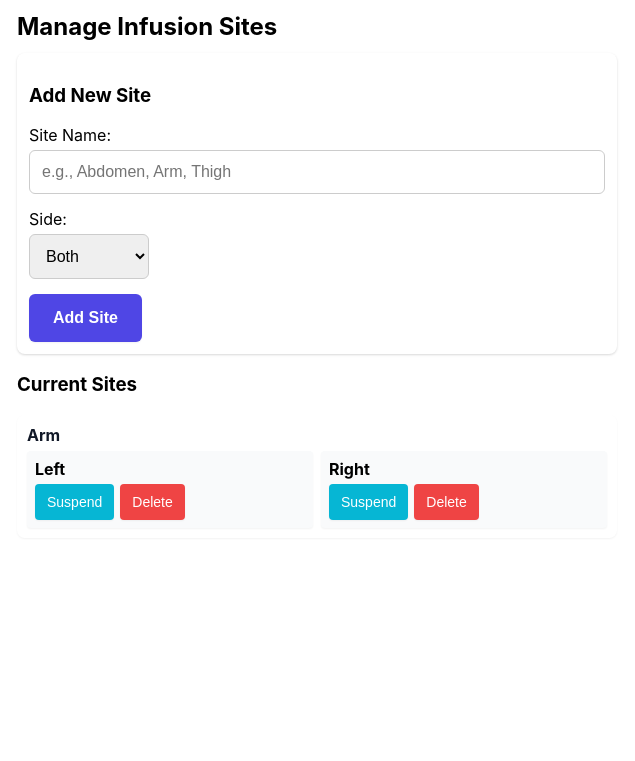
Scenario: LocationManager - suspension UI › suspending one side does not affect the other side
The width and height of the screenshot is (635, 761).
Click the button "Suspend" below "left": click(75, 502) 35,484 -> 114,520
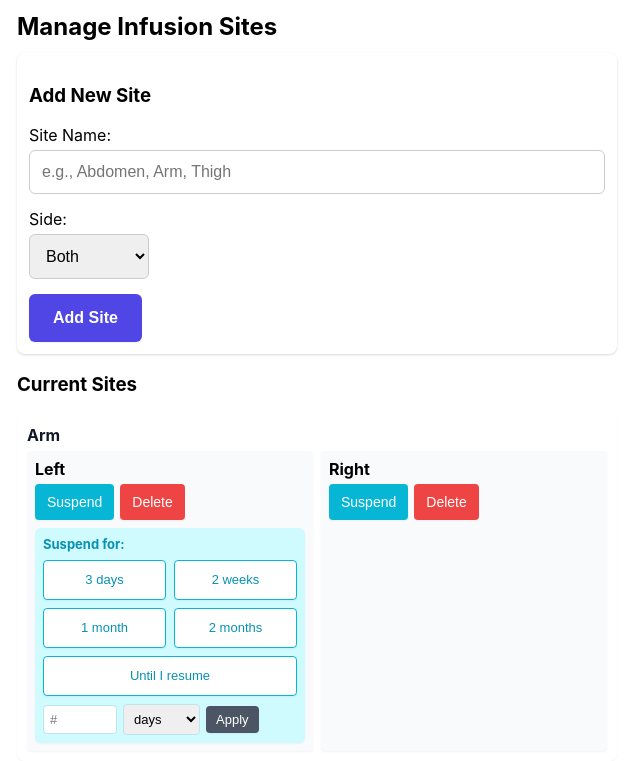
Click the button "Until I resume": click(170, 676) 43,656 -> 297,696
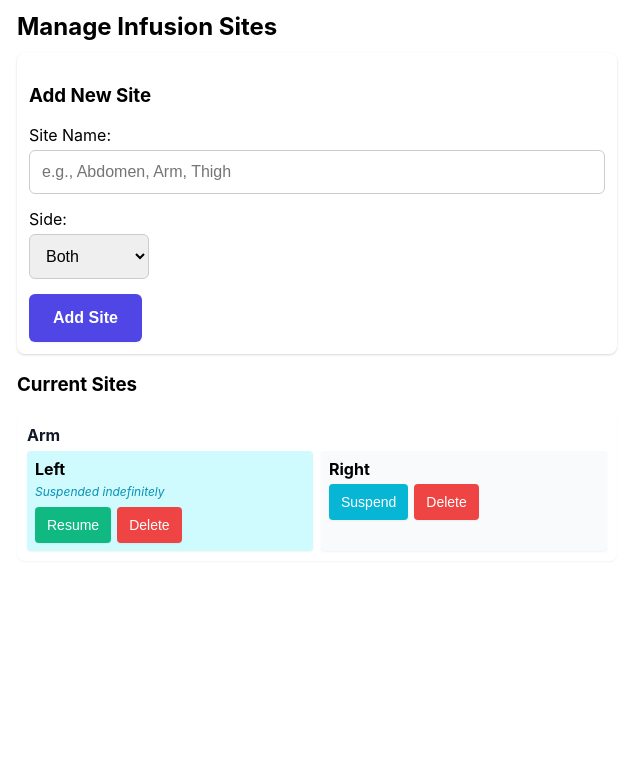
Expected: the button "Suspend" is shown, 329,484 -> 408,520
Now the button "Resume" is shown, box 35,507 -> 111,543
Now the text "Suspended indefinitely" is shown, box 35,484 -> 165,499
